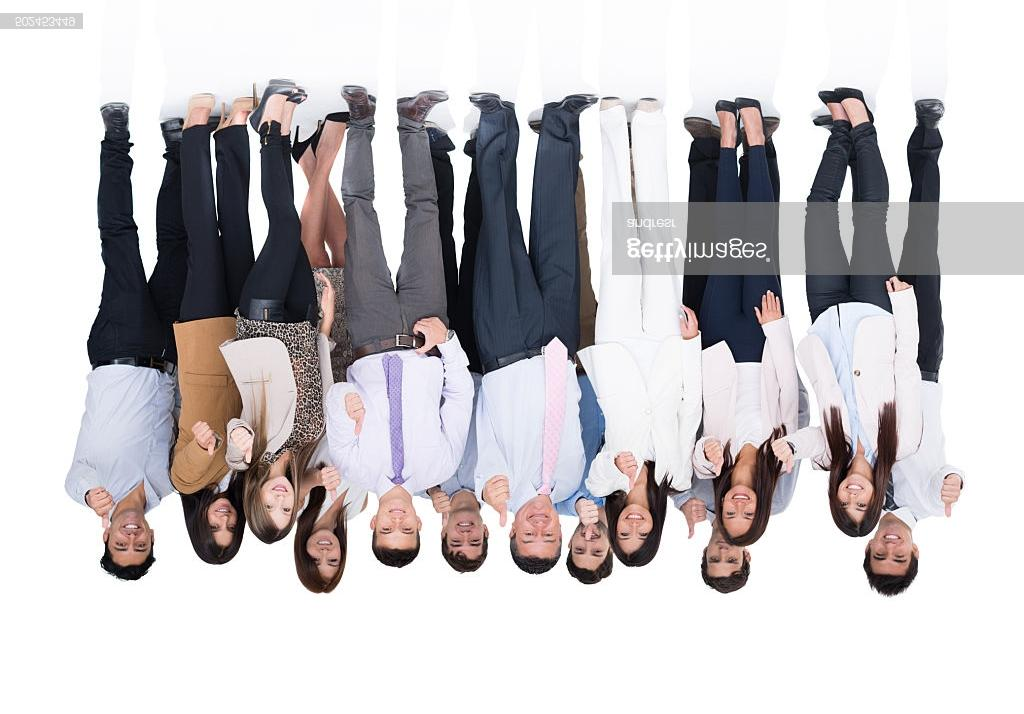thumbsdown: (485, 476, 509, 527), (90, 487, 115, 528), (191, 420, 217, 456), (345, 393, 366, 436), (579, 500, 599, 540), (687, 499, 707, 539), (231, 428, 253, 463), (941, 478, 960, 517), (771, 440, 792, 474), (705, 439, 724, 476), (321, 466, 341, 501), (431, 491, 451, 526), (620, 452, 638, 490)
